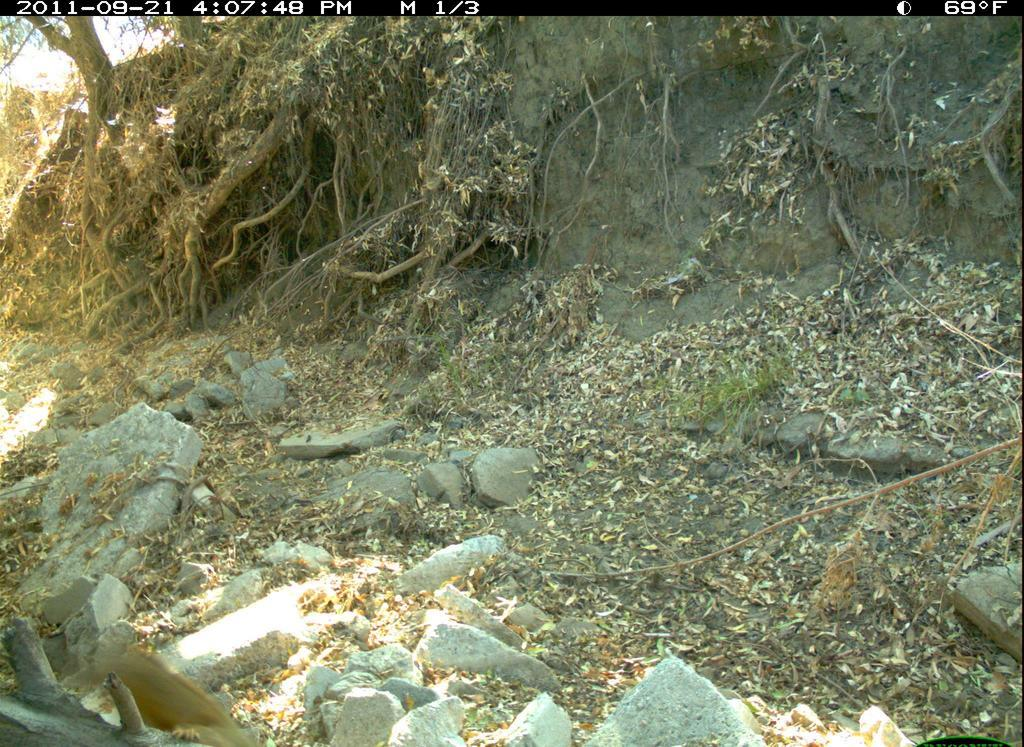squirrel: (86, 639, 269, 747)
